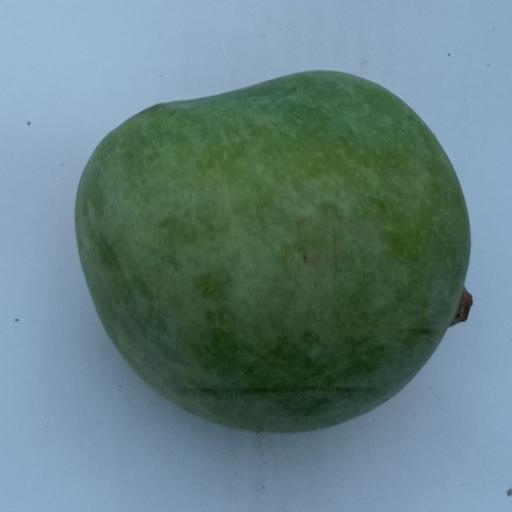mango-unripe: (65, 40, 484, 456)
